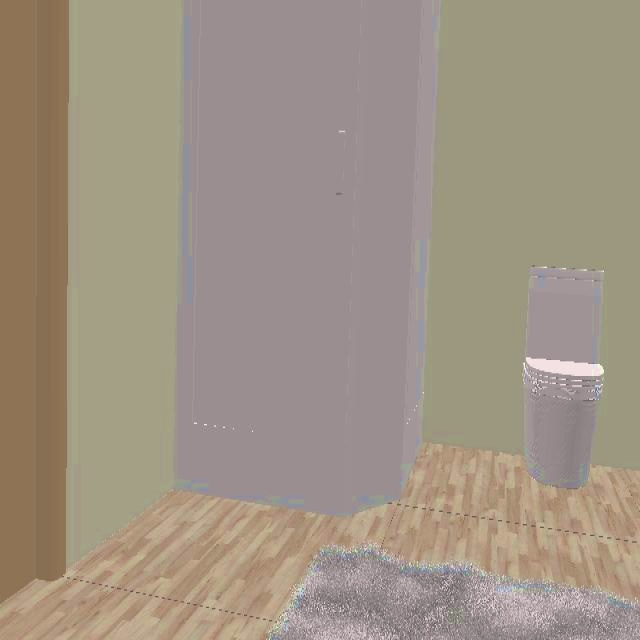shower: (173, 0, 444, 519)
toilet: (524, 265, 607, 488)
